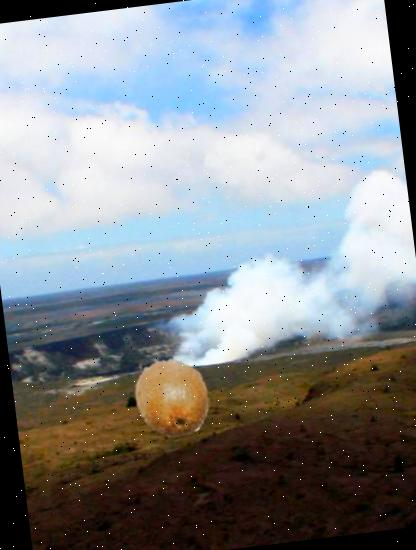Kiwi: (126, 353, 218, 444)
